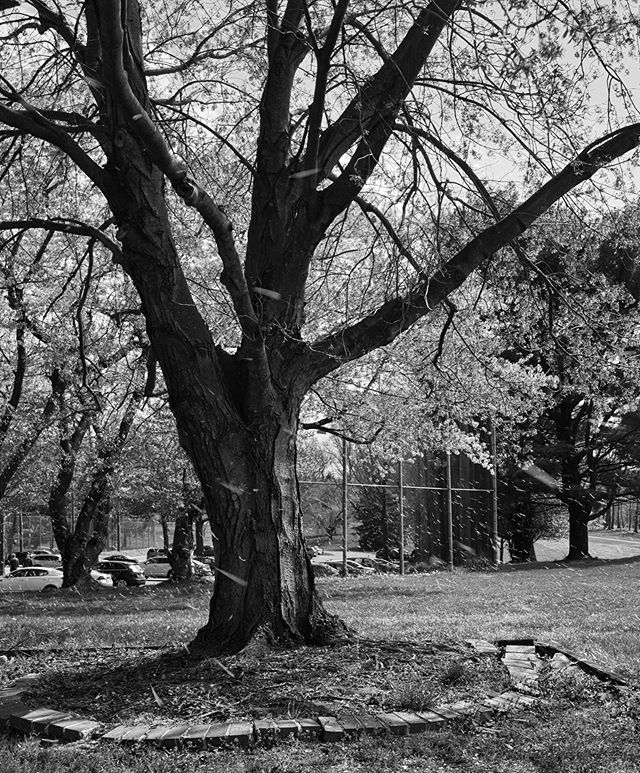tree: (45, 1, 614, 672)
